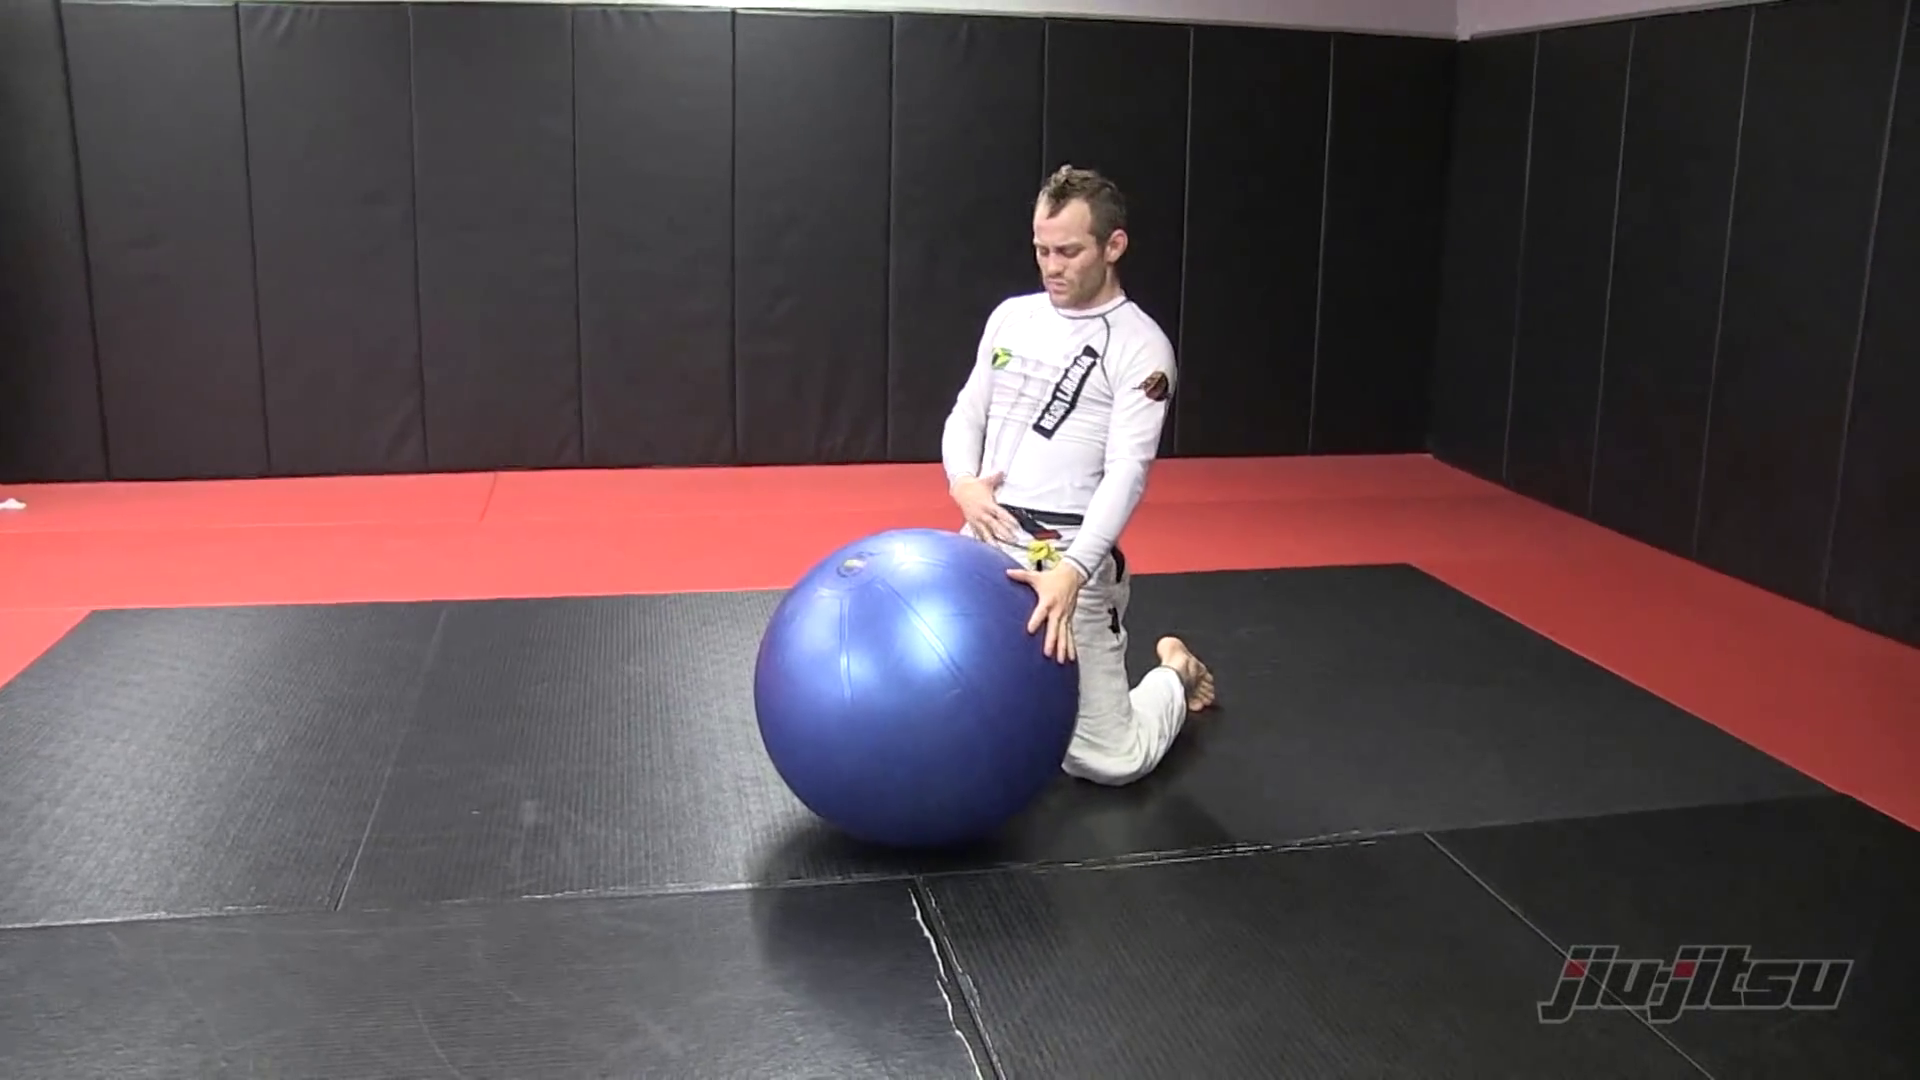yogaball: (746, 516, 1084, 870)
